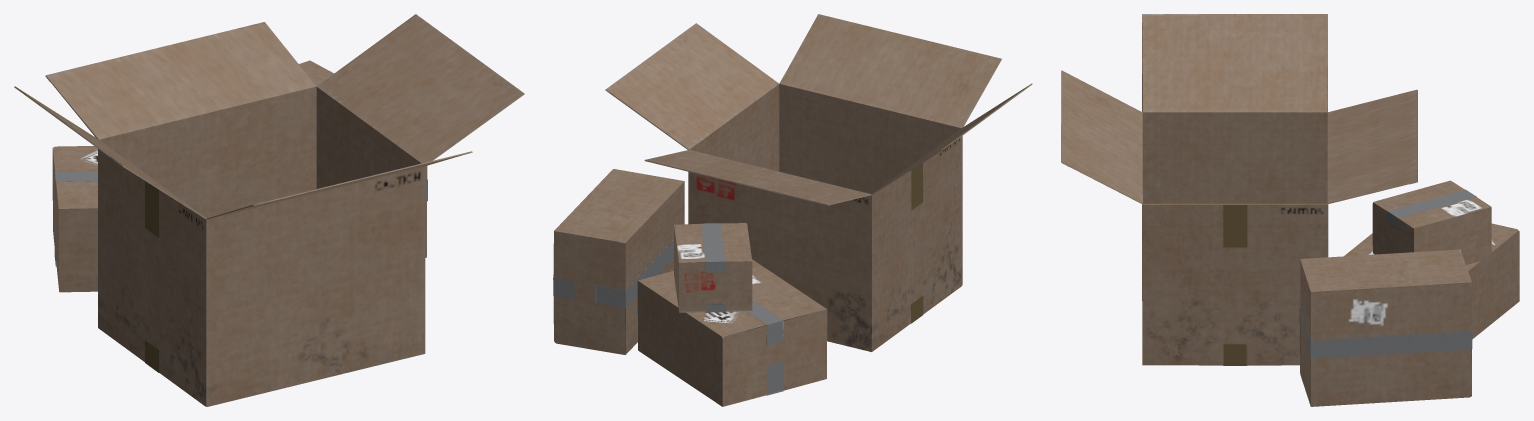
Rendered from Cardboard_Boxes_512.gltf.
The picture shows the model from 3 angles, left to right: view 1: azimuth 30°, elevation 25°; view 2: azimuth 150°, elevation 25°; view 3: azimuth 270°, elevation 25°; orthographic projection. The views are drawn at different scales.
Parts seen in each view (by area): view 1: Cardboard_Boxes; view 2: Cardboard_Boxes; view 3: Cardboard_Boxes.
Part boxes in pixels (x1,y1,x2,y2): Cardboard_Boxes: (14, 14, 524, 406); Cardboard_Boxes: (553, 14, 1032, 406); Cardboard_Boxes: (1061, 14, 1519, 406).
Bounding box in the file's own units: 0.7804 × 0.4858 × 0.8951.
Materials: 1 (1 with a texture image).
